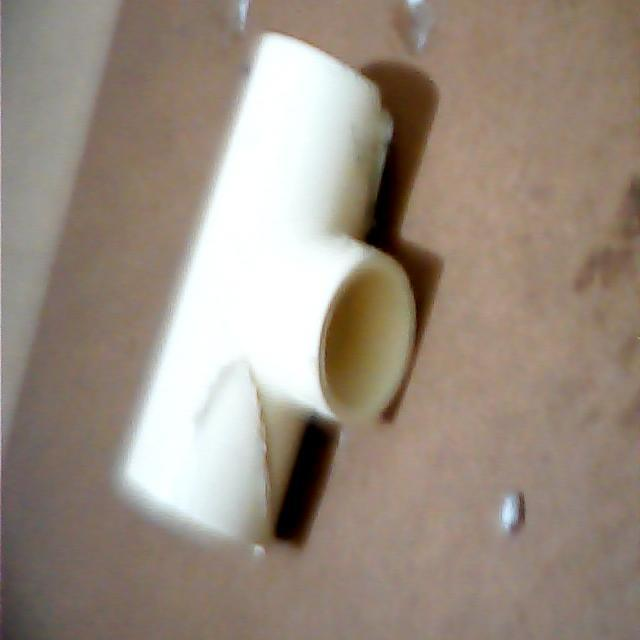Defective: (185, 334, 286, 544)
T Joint: (111, 32, 417, 552)
